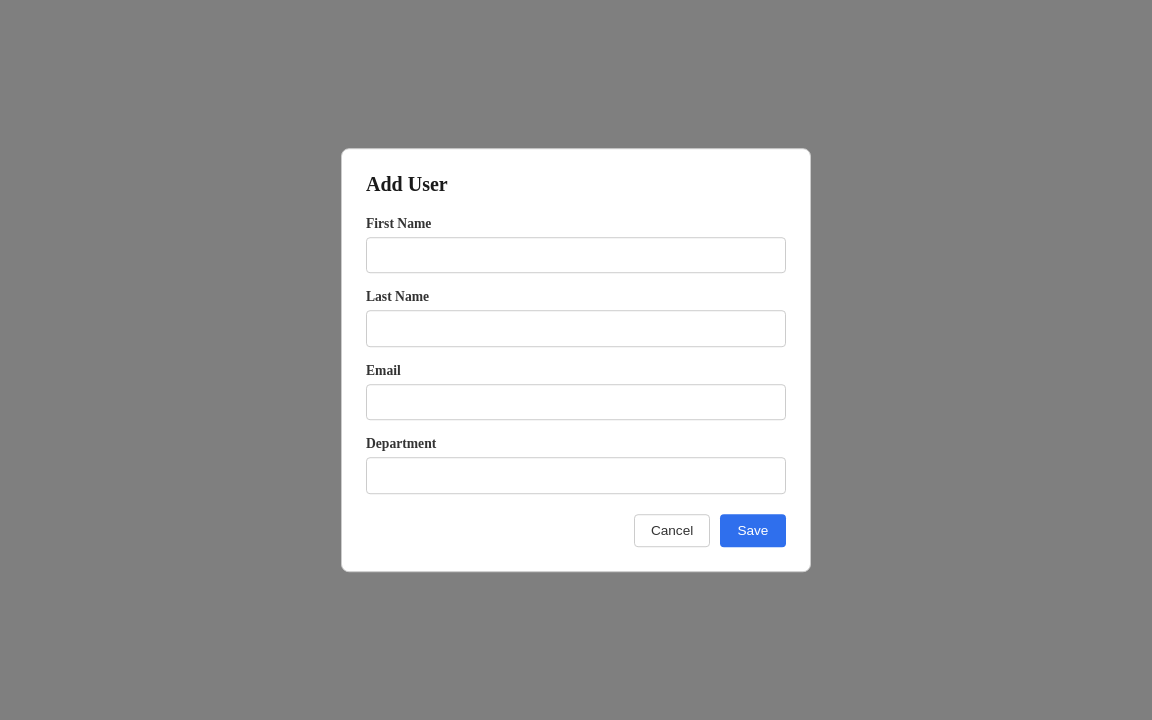
Scenario: UserFormModal - validation › clears a field error as soon as the user edits that field
The image size is (1152, 720).
Click the button "Save" at (753, 530), box [720,514,786,547]
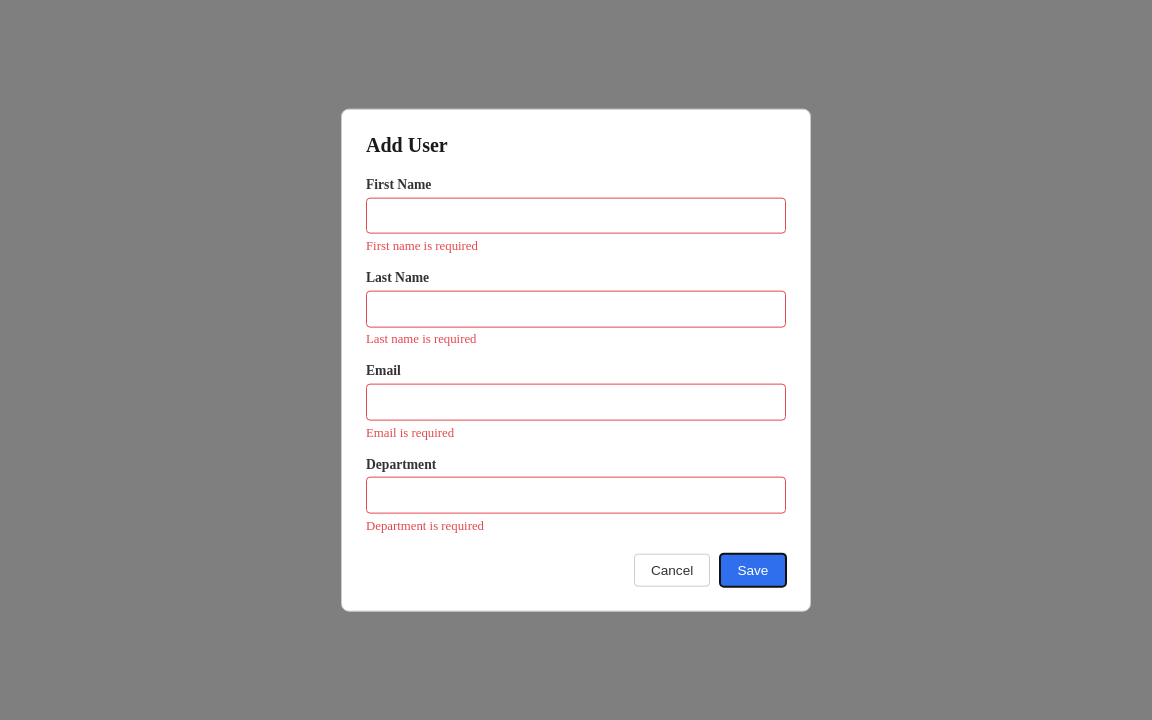
Now the text "First name is required" is shown, box [366,239,478,253]
Type "A" into the field labelled "First Name" at (576, 216), box [366,197,786,234]
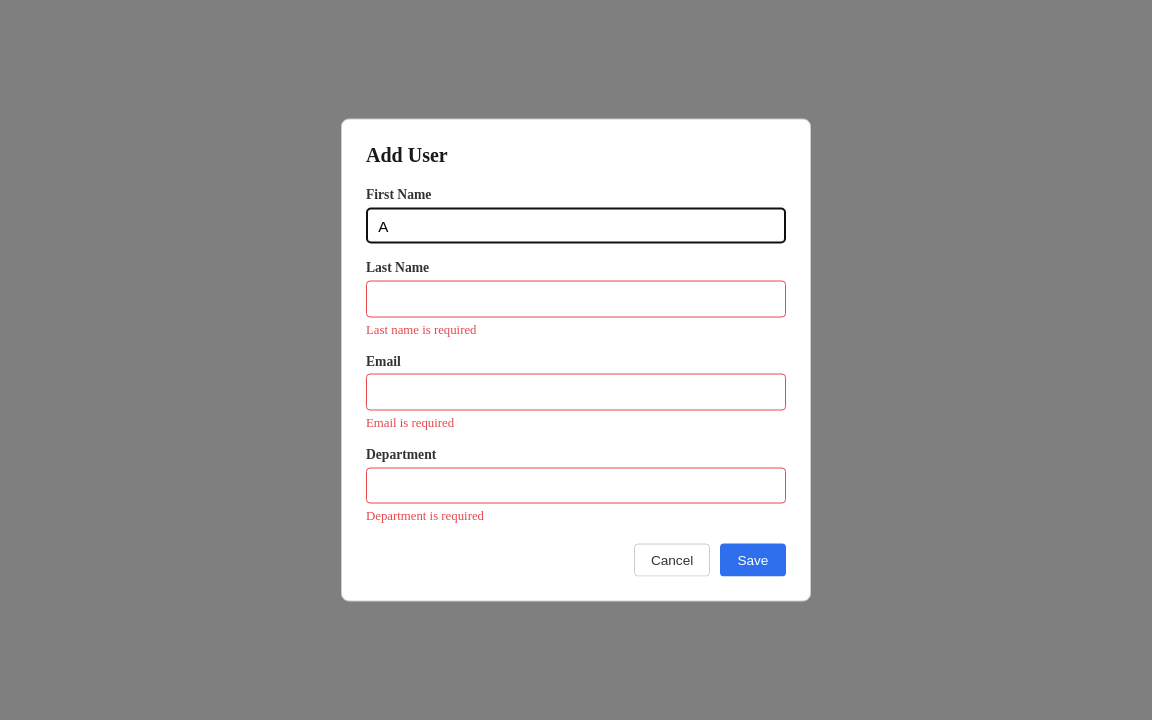
Now the text "First name is required" is gone
